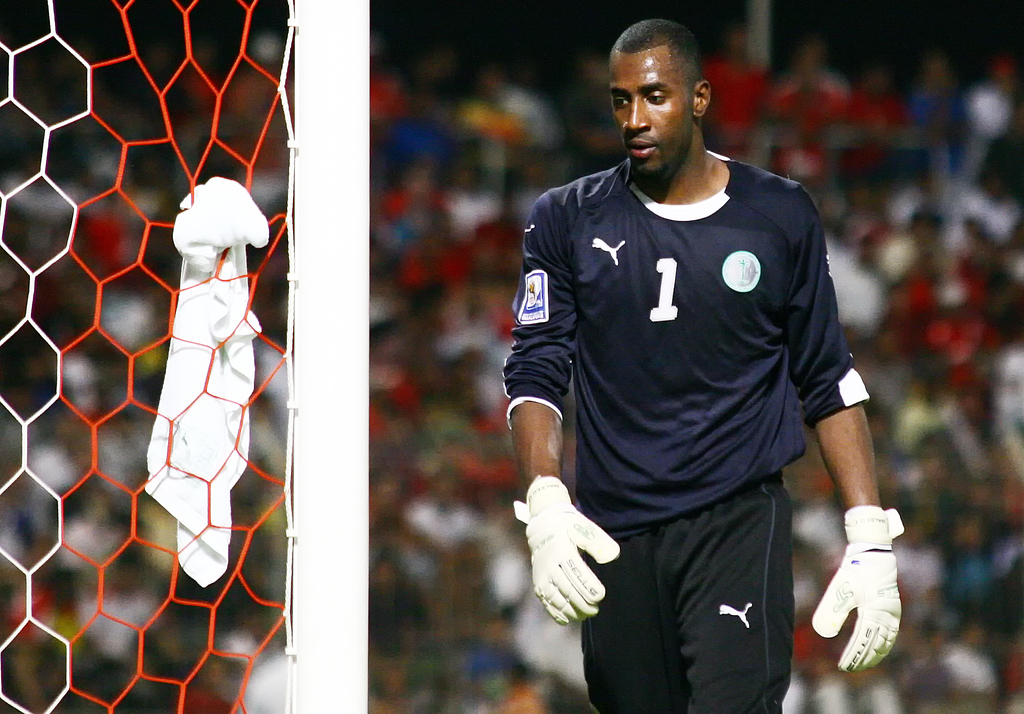person: (16, 397, 154, 551)
